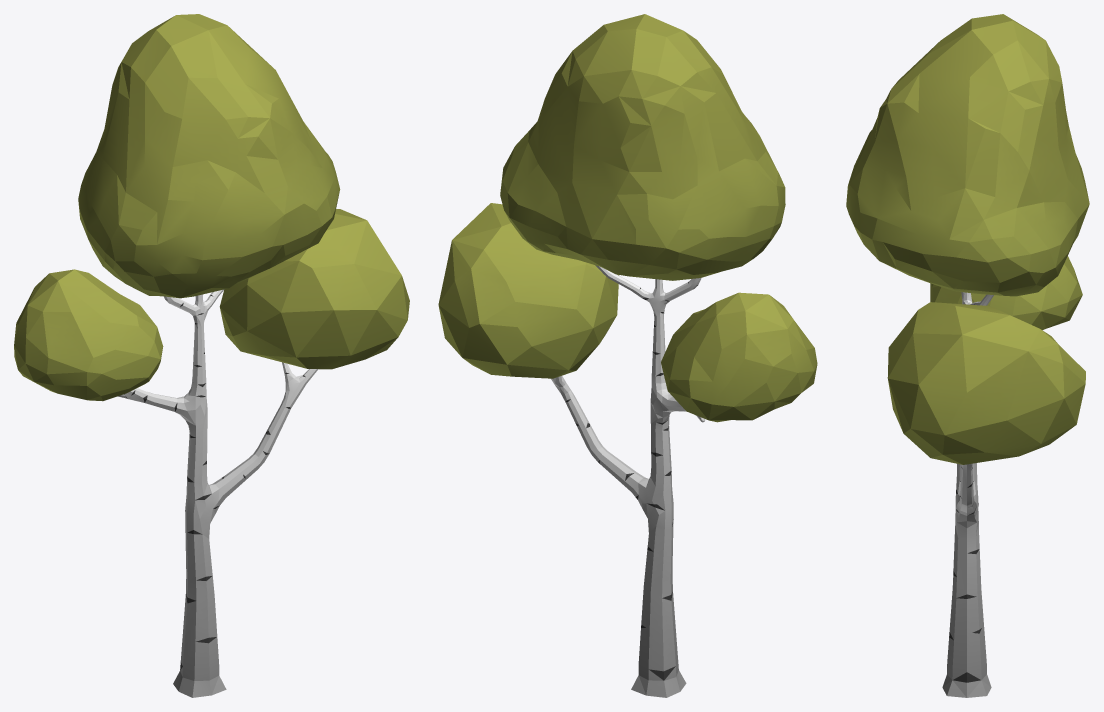
The model's file is Spring_Tree_14.glb.
3 views of the same model, side by side, from view 1: azimuth 30°, elevation 25°; view 2: azimuth 150°, elevation 25°; view 3: azimuth 270°, elevation 25° (orthographic). The views are drawn at different scales.
Visible parts, largest first — view 1: Spring_Tree_14_LOD0; view 2: Spring_Tree_14_LOD0; view 3: Spring_Tree_14_LOD0.
Boxes of the visible parts, left/top/right/bottom form: Spring_Tree_14_LOD0: left=14, top=14, right=409, bottom=697; Spring_Tree_14_LOD0: left=438, top=14, right=817, bottom=697; Spring_Tree_14_LOD0: left=846, top=14, right=1089, bottom=697.
Size of what is drawn, in the model's own units: 4.52 by 7.82 by 2.59.
Materials: 1 (1 with a texture image).
